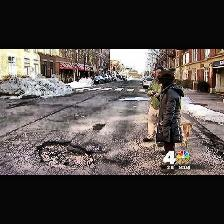pothole: (36, 140, 94, 168)
